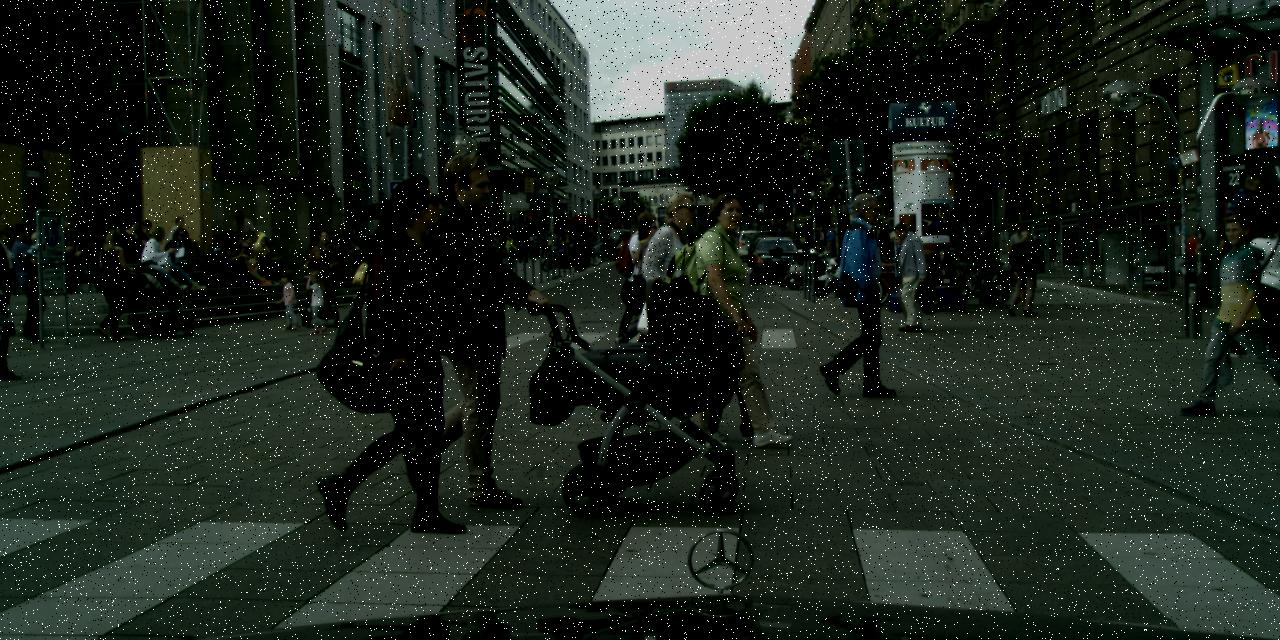ped: (329, 175, 472, 522), (387, 151, 528, 495), (681, 191, 784, 443), (624, 192, 724, 435), (817, 192, 898, 389), (1205, 213, 1279, 413), (1214, 196, 1279, 357), (698, 291, 758, 441), (615, 210, 669, 341), (619, 219, 672, 348), (1, 222, 50, 342), (1243, 214, 1279, 362), (90, 227, 134, 338), (885, 222, 929, 330), (884, 230, 922, 323), (307, 231, 342, 316), (1005, 229, 1039, 314), (1181, 227, 1214, 307), (1012, 235, 1044, 312), (303, 269, 329, 334), (970, 229, 995, 290), (1010, 223, 1035, 284), (276, 270, 300, 328), (554, 229, 598, 249), (484, 230, 500, 271), (825, 225, 840, 263), (502, 234, 517, 269), (814, 226, 828, 263), (878, 227, 892, 261), (516, 228, 530, 260), (539, 228, 550, 255), (530, 231, 540, 257), (502, 226, 512, 252), (366, 230, 376, 256), (600, 228, 610, 241), (548, 230, 551, 252)
